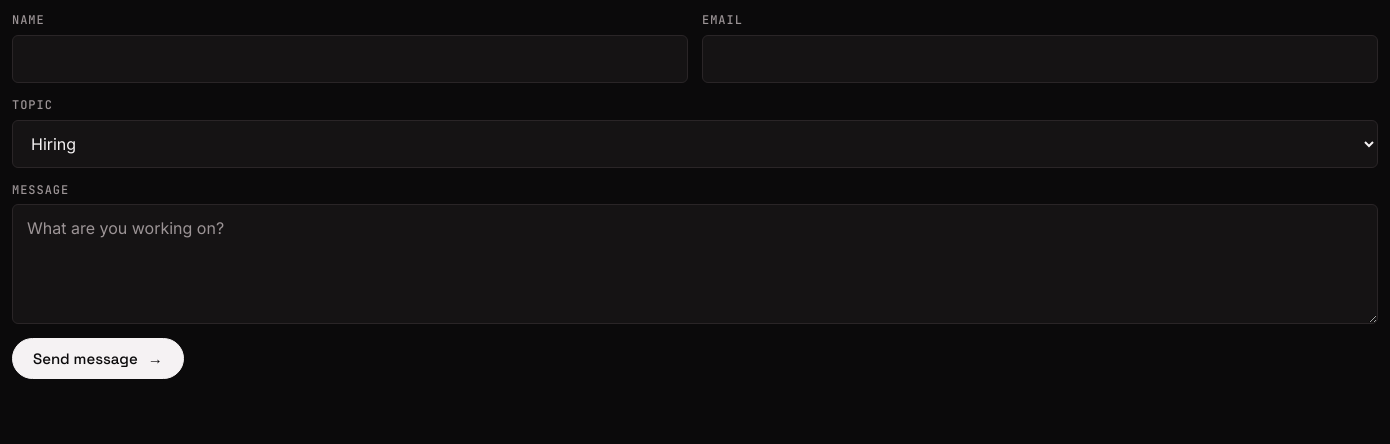
Test: ContactForm › clears a field’s error as soon as it is edited
Click the button "Send message →". click: (98, 359)
box: x1=12 y1=338 x2=184 y2=379
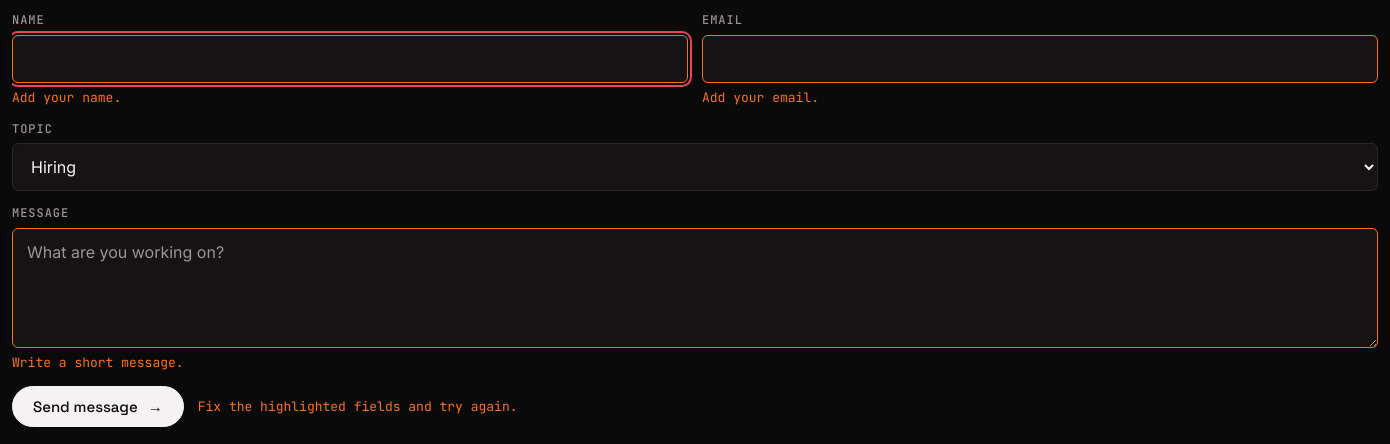
Type "A" into the field labelled "Name". click: (350, 59)
box: x1=12 y1=35 x2=688 y2=83
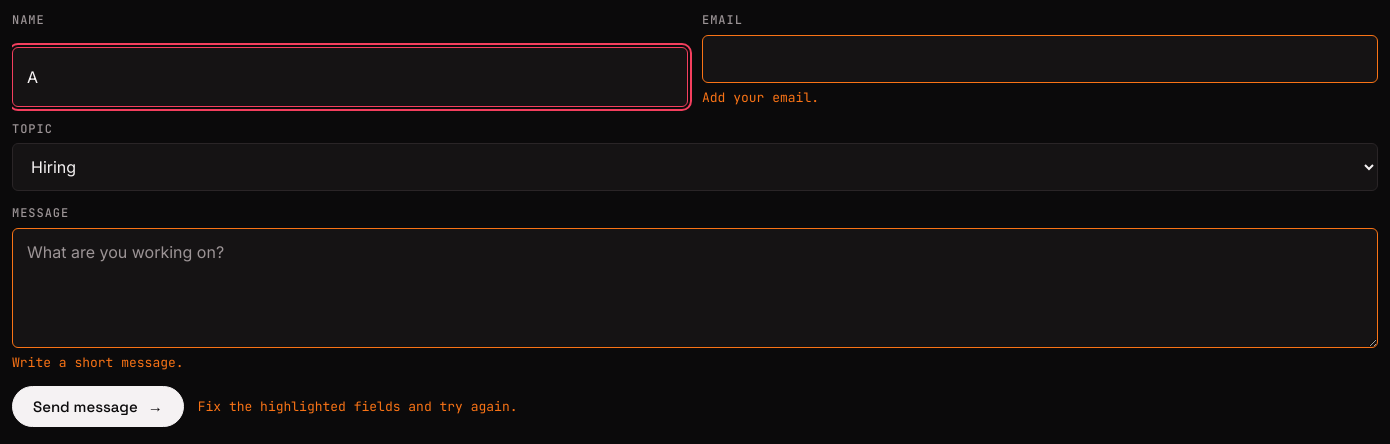
expect the text "Add your name." is gone: met
